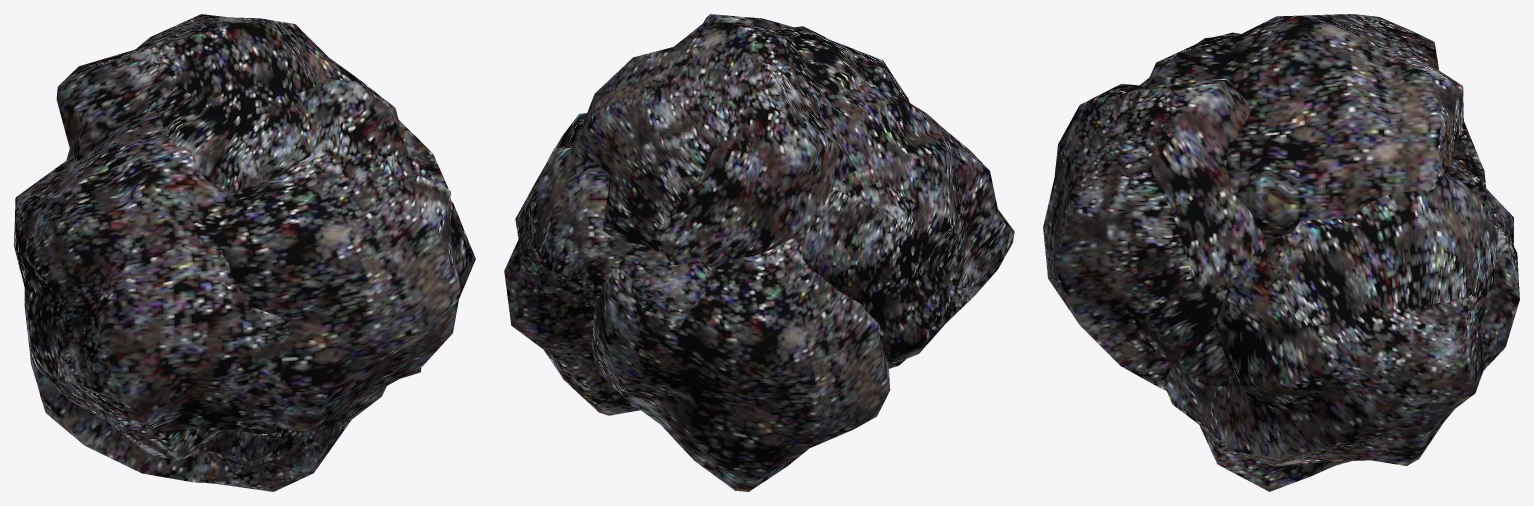
File: atria-premium-v2.glb
The picture shows the model from 3 angles, left to right: view 1: azimuth 30°, elevation 25°; view 2: azimuth 150°, elevation 25°; view 3: azimuth 270°, elevation 25°; orthographic projection. The views are drawn at different scales.
Visible parts, largest first — view 1: atria; view 2: atria; view 3: atria.
Part boxes in pixels (<box>): atria: <box>14,14,475,491</box>; atria: <box>504,14,1014,491</box>; atria: <box>1043,14,1519,491</box>.
Size of the model in its own units: 1.73 by 1.75 by 1.63.
1 material, 1 textured.
